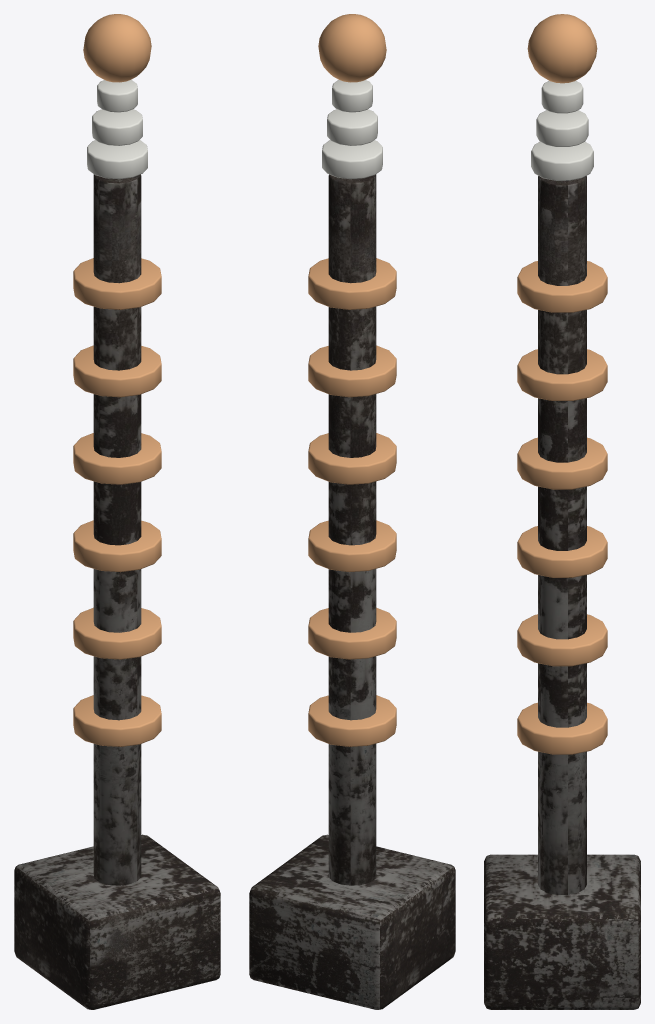
The model's file is prop_trap_pylon.glb.
3 renders of one model, left to right at view 1: azimuth 30°, elevation 25°; view 2: azimuth 150°, elevation 25°; view 3: azimuth 270°, elevation 25°, orthographic.
Parts seen in each view (by area): view 1: Mast, Base, Electrode, Coil5, Coil1, Coil3, Coil4, Coil0, Coil2, Insulator0, Insulator1, Insulator2; view 2: Mast, Base, Electrode, Coil5, Coil1, Coil3, Coil4, Coil0, Coil2, Insulator0, Insulator1, Insulator2; view 3: Mast, Base, Electrode, Coil1, Coil0, Coil3, Coil4, Coil2, Coil5, Insulator0, Insulator1, Insulator2.
Part boxes in pixels (box(x1,y1,x2,y2)): Mast: box(93, 174, 141, 885); Base: box(14, 834, 220, 1009); Electrode: box(83, 14, 151, 82); Coil5: box(73, 258, 161, 309); Coil1: box(73, 607, 161, 659); Coil3: box(73, 433, 161, 484); Coil4: box(73, 345, 161, 397); Coil0: box(73, 695, 161, 746); Coil2: box(73, 520, 161, 572); Insulator0: box(87, 140, 147, 179); Insulator1: box(92, 109, 142, 145); Insulator2: box(97, 80, 137, 112); Mast: box(328, 174, 376, 885); Base: box(249, 834, 455, 1009); Electrode: box(318, 14, 386, 82); Coil5: box(308, 258, 396, 309); Coil1: box(308, 607, 396, 659); Coil3: box(308, 433, 396, 484); Coil4: box(308, 345, 396, 397); Coil0: box(308, 695, 396, 746); Coil2: box(308, 520, 396, 572); Insulator0: box(322, 140, 382, 179); Insulator1: box(327, 109, 377, 145); Insulator2: box(332, 80, 372, 112); Mast: box(538, 176, 586, 894); Base: box(484, 854, 640, 1009); Electrode: box(527, 14, 597, 83); Coil1: box(517, 614, 607, 666); Coil0: box(517, 702, 607, 754); Coil3: box(517, 437, 607, 489); Coil4: box(517, 349, 607, 400); Coil2: box(517, 526, 607, 577); Coil5: box(517, 261, 607, 312); Insulator0: box(531, 142, 593, 180); Insulator1: box(536, 110, 588, 146); Insulator2: box(541, 80, 583, 113).
Bounding box in the file's own units: 0.45 × 3.05 × 0.45.
Materials: 3 (1 with a texture image).
